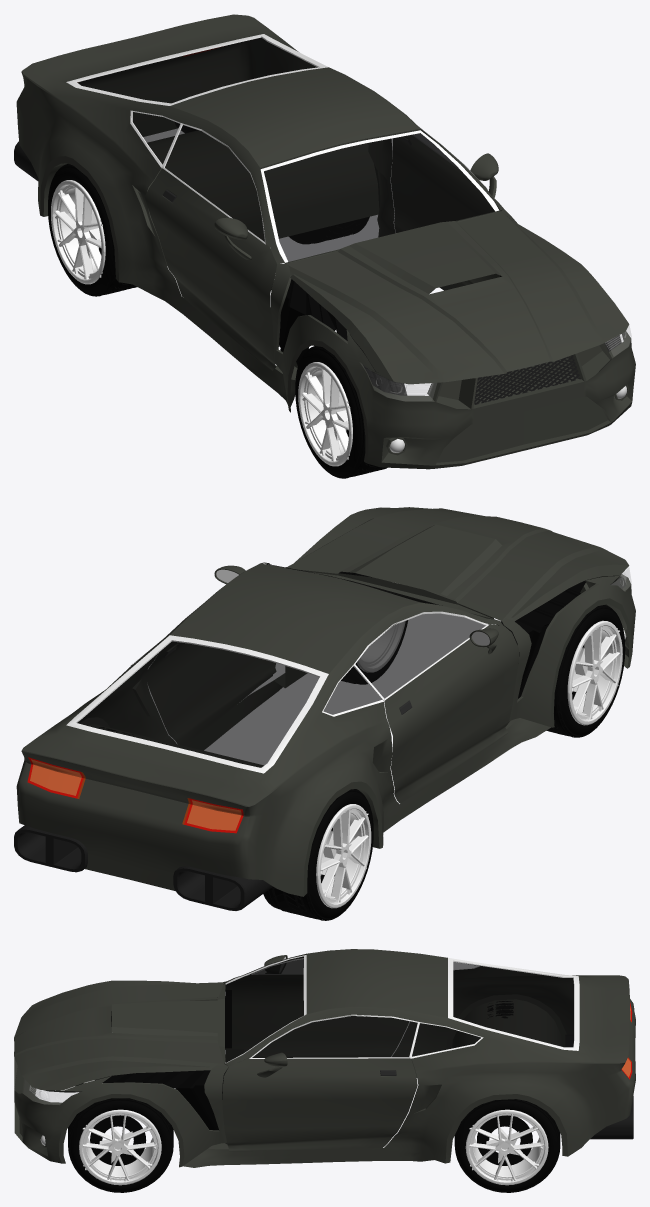
File: sports+car+model+fiver.glb
The picture shows the model from 3 angles, top to bottom: view 1: azimuth 30°, elevation 25°; view 2: azimuth 150°, elevation 25°; view 3: azimuth 270°, elevation 25°; orthographic projection. The views are drawn at different scales.
Parts seen in each view (by area): view 1: Car, wheel2, Wheel2, Wheel4; view 2: Car, Wheel2, wheel2, wheel1; view 3: Car, wheel1, Wheel4.
Boxes of the visible parts, x1=… form: Car: x1=14, y1=14, x2=635, y2=469; wheel2: x1=295, y1=344, x2=406, y2=478; Wheel2: x1=48, y1=164, x2=136, y2=296; Wheel4: x1=289, y1=217, x2=369, y2=243; Car: x1=14, y1=507, x2=635, y2=910; Wheel2: x1=263, y1=789, x2=373, y2=920; wheel2: x1=518, y1=601, x2=625, y2=737; wheel1: x1=339, y1=571, x2=407, y2=684; Car: x1=14, y1=949, x2=635, y2=1167; wheel1: x1=68, y1=1098, x2=173, y2=1192; Wheel4: x1=454, y1=1099, x2=560, y2=1192.
Size of the model in its own units: 1.77 by 1.35 by 4.44.
